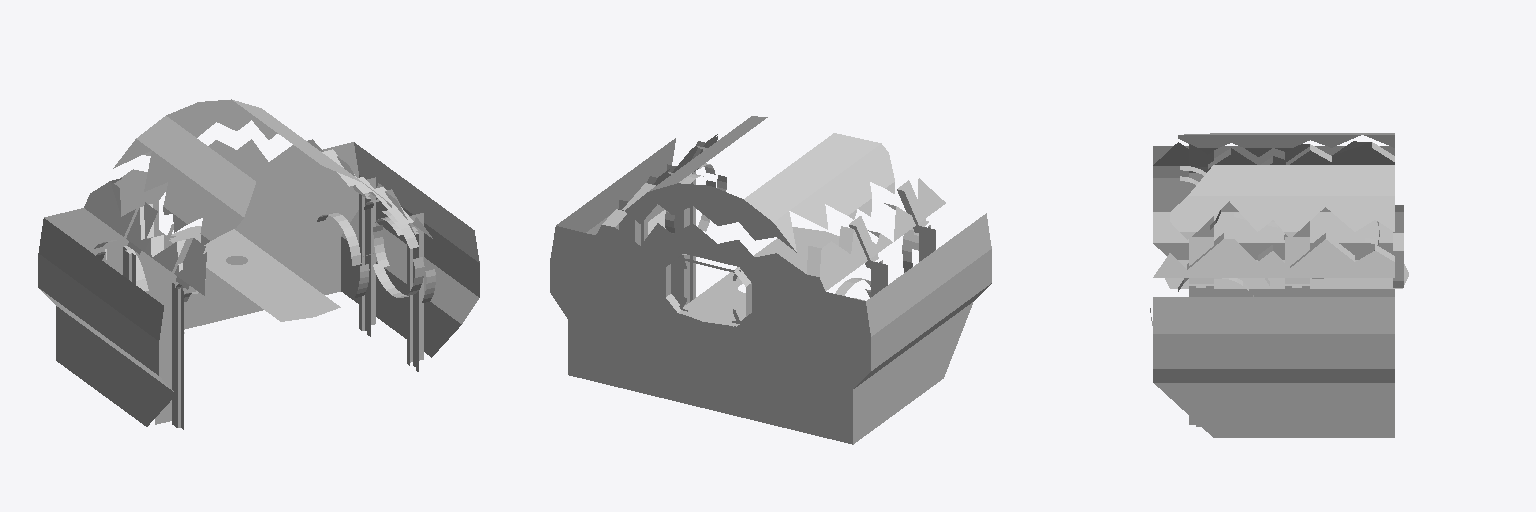
File: stg300_Motcatoptric_01.obj
3 views of the same model, side by side, from view 1: azimuth 30°, elevation 25°; view 2: azimuth 150°, elevation 25°; view 3: azimuth 270°, elevation 25° (orthographic).
Parts seen in each view (by area): view 1: polygon0, polygon1; view 2: polygon0, polygon1; view 3: polygon0, polygon1.
Boxes of the visible parts, x1,y1,x2,y2 form: polygon0: [38, 99, 479, 429]; polygon1: [169, 226, 340, 321]; polygon0: [550, 116, 991, 444]; polygon1: [683, 227, 839, 326]; polygon0: [1150, 133, 1403, 437]; polygon1: [1165, 260, 1408, 288].
Bounding box in the file's own units: 269 × 180 × 188.